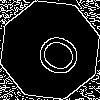O: (25, 25, 84, 82)
